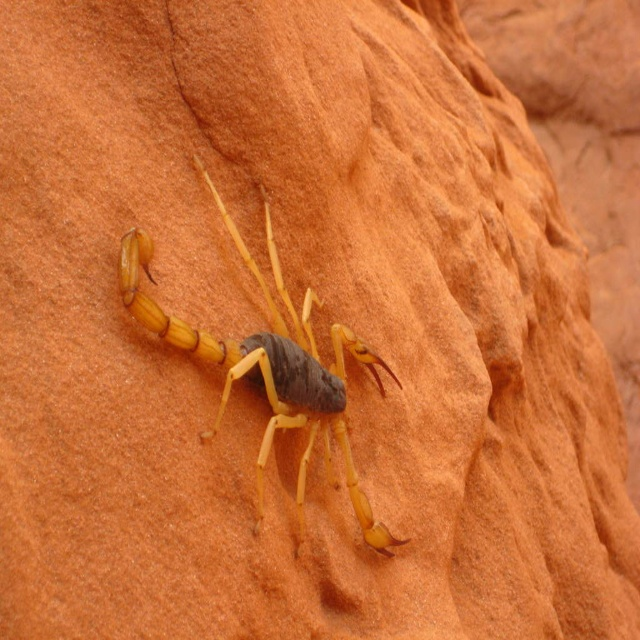Scorpion: (117, 154, 412, 558)
